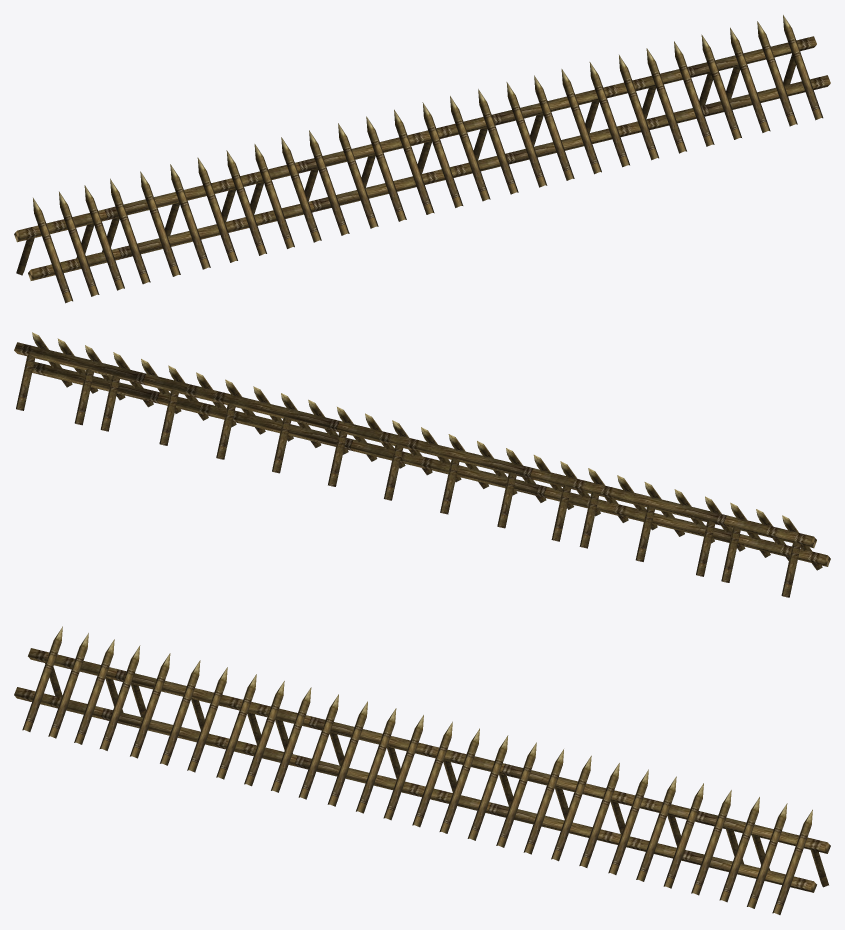
Rendered from bagh_barricade01.glb.
The picture shows the model from 3 angles, top to bottom: view 1: azimuth 30°, elevation 25°; view 2: azimuth 150°, elevation 25°; view 3: azimuth 330°, elevation 25°; orthographic projection.
Visible parts, largest first — view 1: res\bldg\arabia\bagh_city\event\bagh_barricade01.bsr; view 2: res\bldg\arabia\bagh_city\event\bagh_barricade01.bsr; view 3: res\bldg\arabia\bagh_city\event\bagh_barricade01.bsr.
Part boxes in pixels (left/top/right/bottom): res\bldg\arabia\bagh_city\event\bagh_barricade01.bsr: left=14, top=15, right=830, bottom=303; res\bldg\arabia\bagh_city\event\bagh_barricade01.bsr: left=14, top=332, right=830, bottom=597; res\bldg\arabia\bagh_city\event\bagh_barricade01.bsr: left=14, top=626, right=830, bottom=914.
Bounding box in the file's own units: 137 × 13.28 × 13.4.
Materials: 1 (1 with a texture image).
